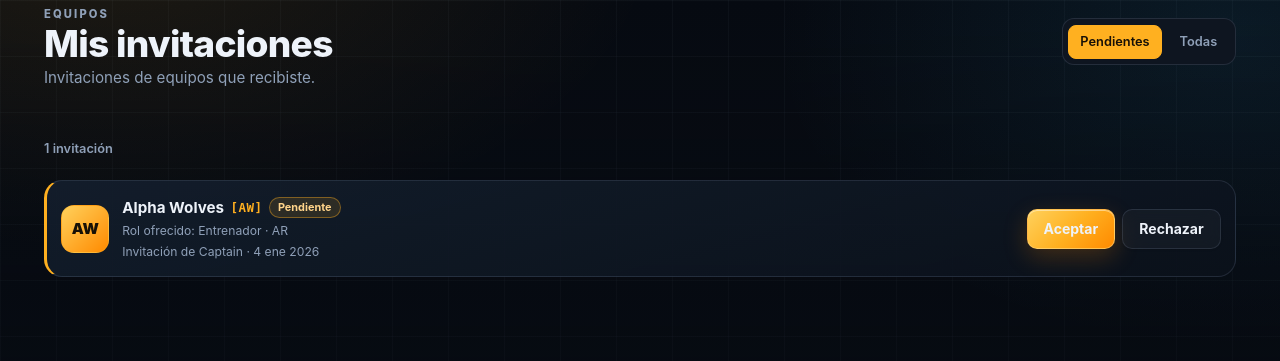
it: Invitations page › accepts an invitation and reloads
Click the button "Aceptar".
click(1071, 229)  # box [1027, 209, 1115, 249]
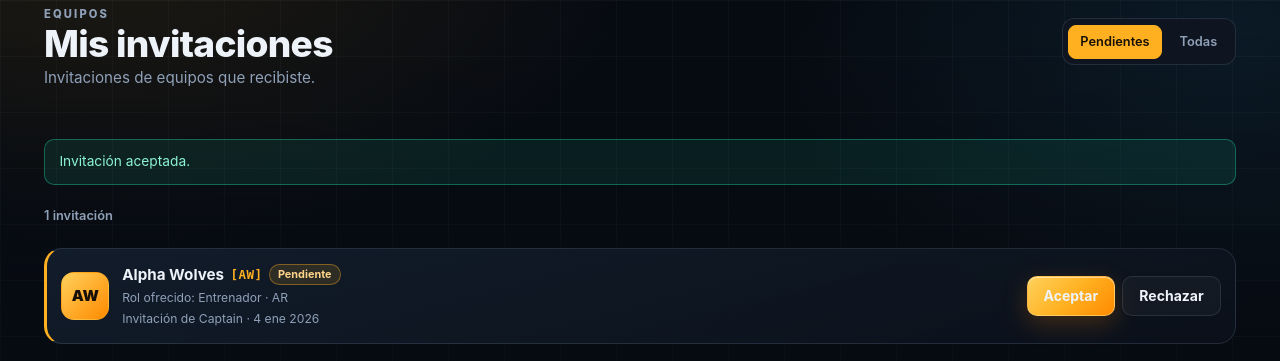
expect the text "Invitación aceptada." is shown: met, box [44, 139, 1236, 184]
